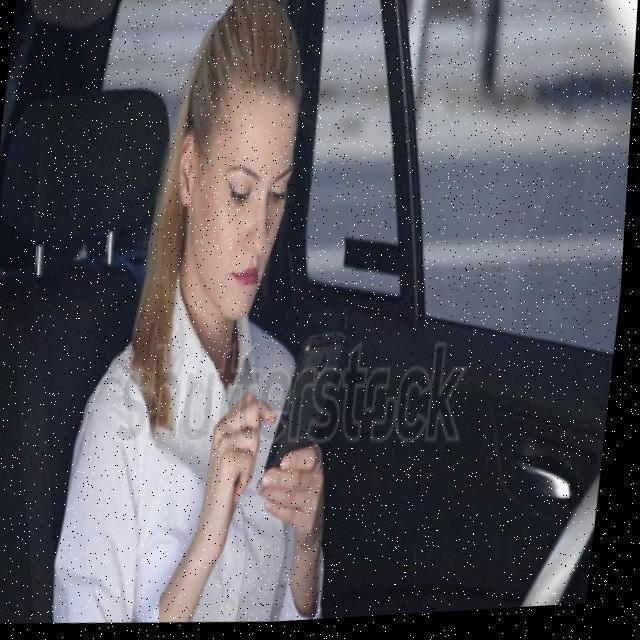PhoneCall: (267, 334, 352, 499)
